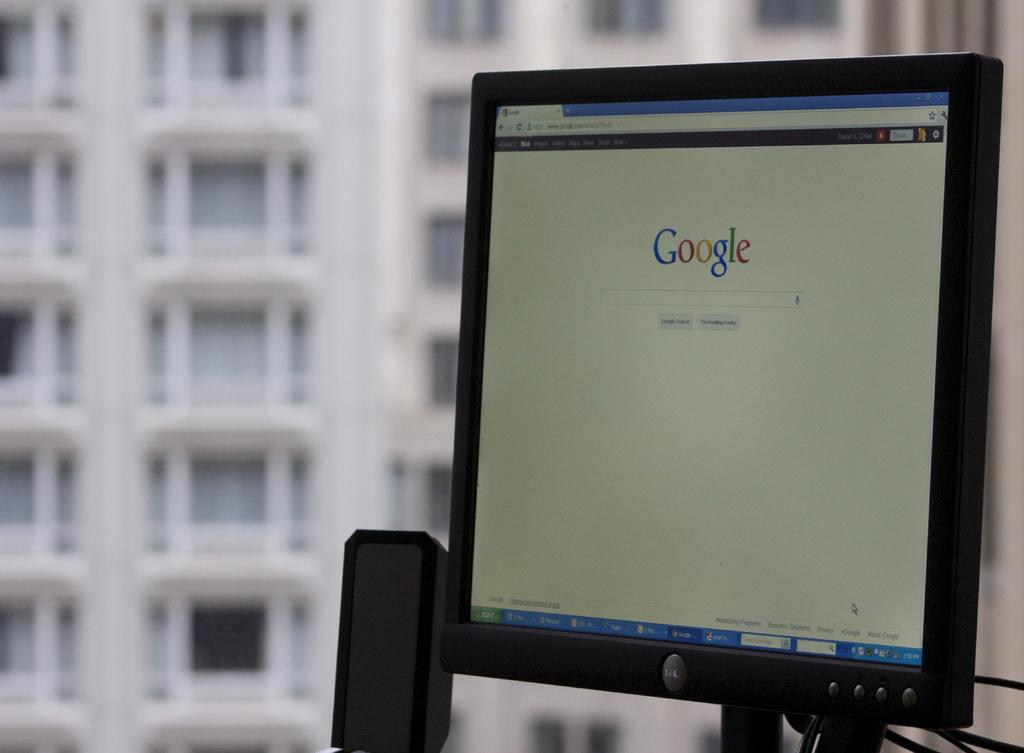Laptop: (439, 50, 1003, 739)
